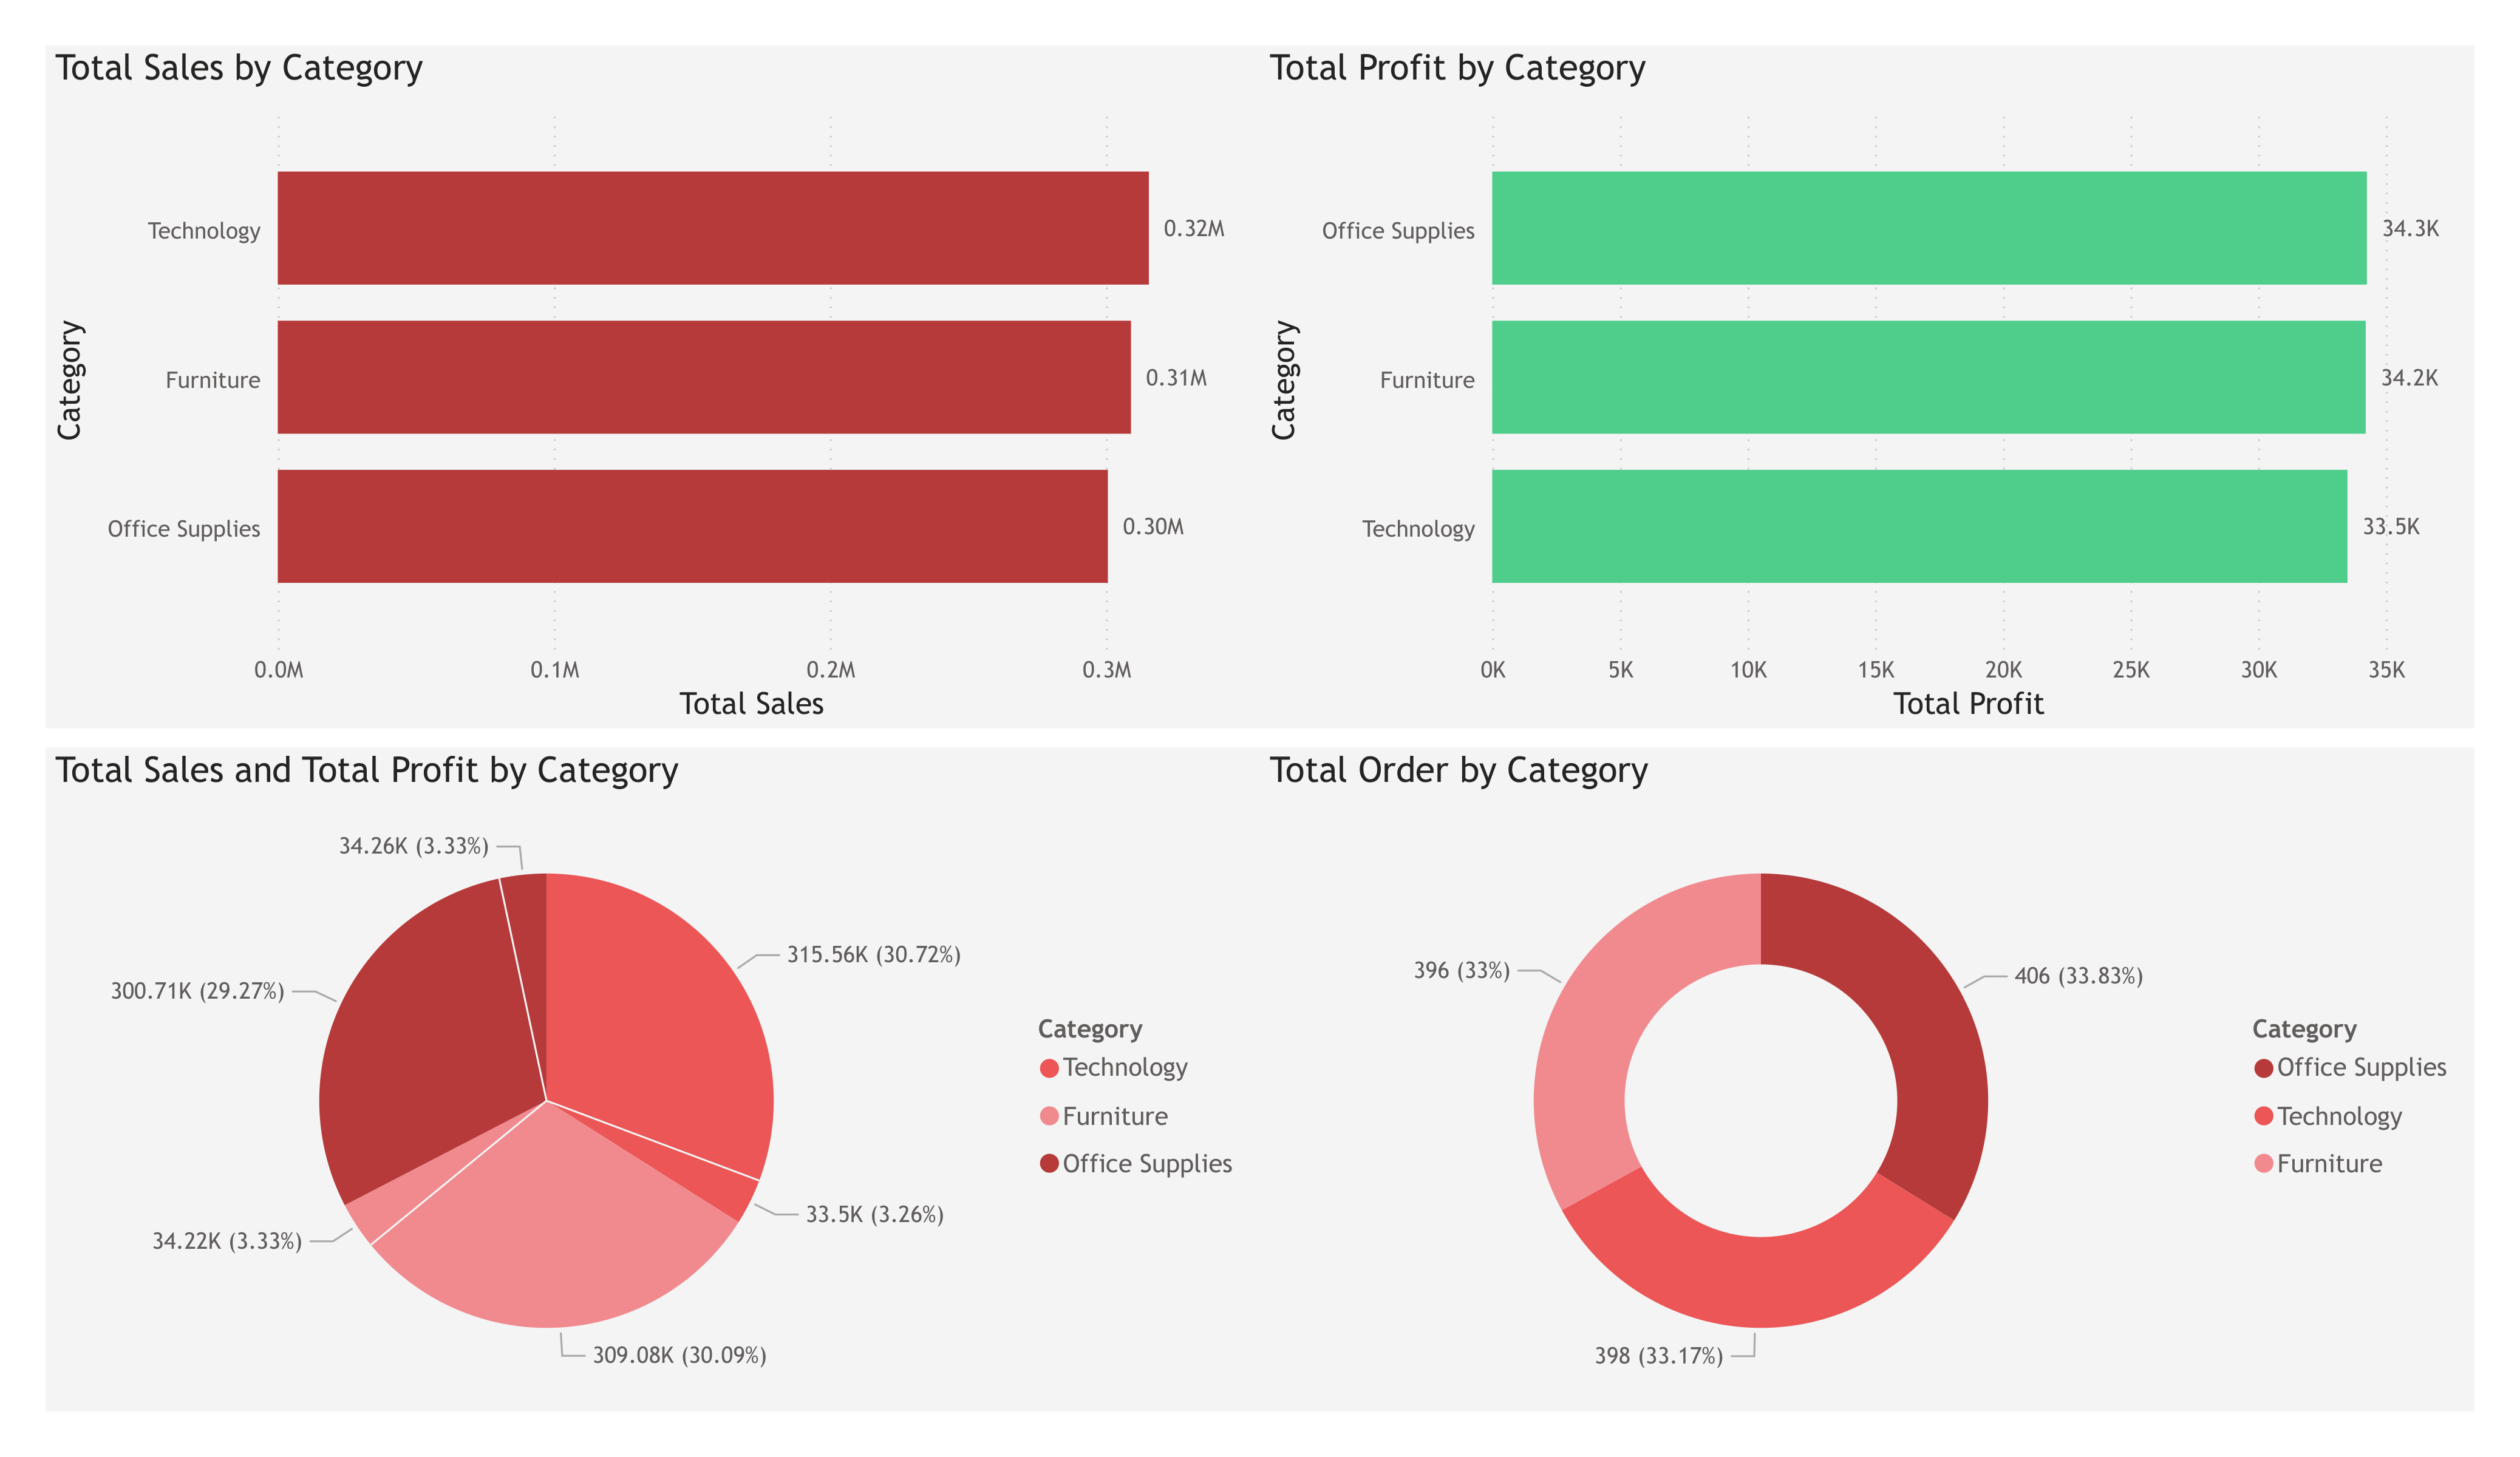

Layout of this report page (visuals, bound fields, positions):
{"tool":"powerbi","page":{"name":"Category Analysis","canvas":[1280,720],"ordinal":1},"visuals":[{"type":"clusteredBarChart","fields":{"Category":["Sales_Table1.Category"],"Y":["Measures (2).Total Sales"]},"box":[0,0,640,360],"z":0},{"type":"clusteredBarChart","fields":{"Category":["Sales_Table1.Category"],"Y":["Measures (2).Total Profit"]},"box":[640,0,640,360],"z":1000},{"type":"donutChart","fields":{"Category":["Sales_Table1.Category"],"Y":["Measures (2).Total Order"]},"box":[640,370,640,350],"z":2000},{"type":"pieChart","fields":{"Category":["Sales_Table1.Category"],"Y":["Measures (2).Total Sales","Measures (2).Total Profit"]},"box":[0,370,640,350],"z":3000}]}

Visuals, with their boxes on the page's 1280x720 design canvas (x1, y1, x2, y2). These are canvas units, not pixel positions in the 2520x1457 screenshot, which may show the page scaled, cropped or inside an application window:
clusteredBarChart - Sales_Table1.Category x Measures (2).Total Sales: (0,0,640,360)
clusteredBarChart - Sales_Table1.Category x Measures (2).Total Profit: (640,0,1280,360)
donutChart - Sales_Table1.Category x Measures (2).Total Order: (640,370,1280,720)
pieChart - Sales_Table1.Category x Measures (2).Total Sales: (0,370,640,720)
